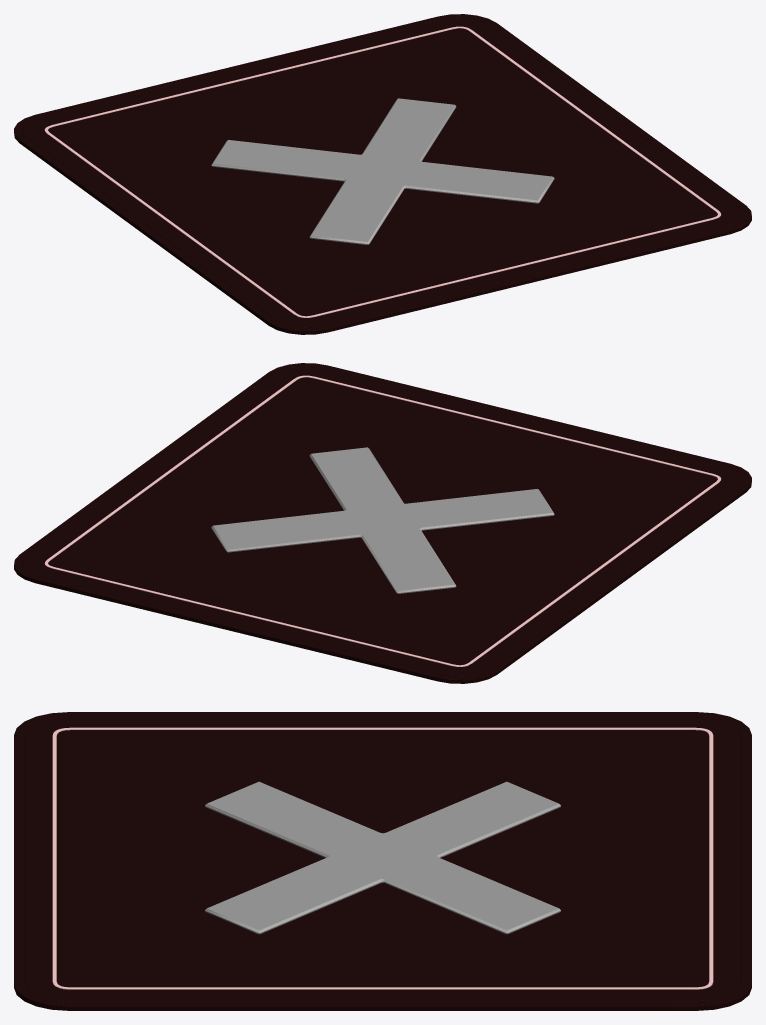
Rendered from W_M_Playground_X_L0.fbx.
3 renders of one model, top to bottom at view 1: azimuth 30°, elevation 25°; view 2: azimuth 150°, elevation 25°; view 3: azimuth 270°, elevation 25°, orthographic. The views are drawn at different scales.
Visible parts, largest first — view 1: W_M_Playground_X_L0; view 2: W_M_Playground_X_L0; view 3: W_M_Playground_X_L0.
Boxes of the visible parts, x1,y1,x2,y2 form: W_M_Playground_X_L0: (14,14,751,334); W_M_Playground_X_L0: (14,363,751,683); W_M_Playground_X_L0: (14,712,751,1010).
Size of the model in its own units: 17.08 by 0.369 by 18.12.
